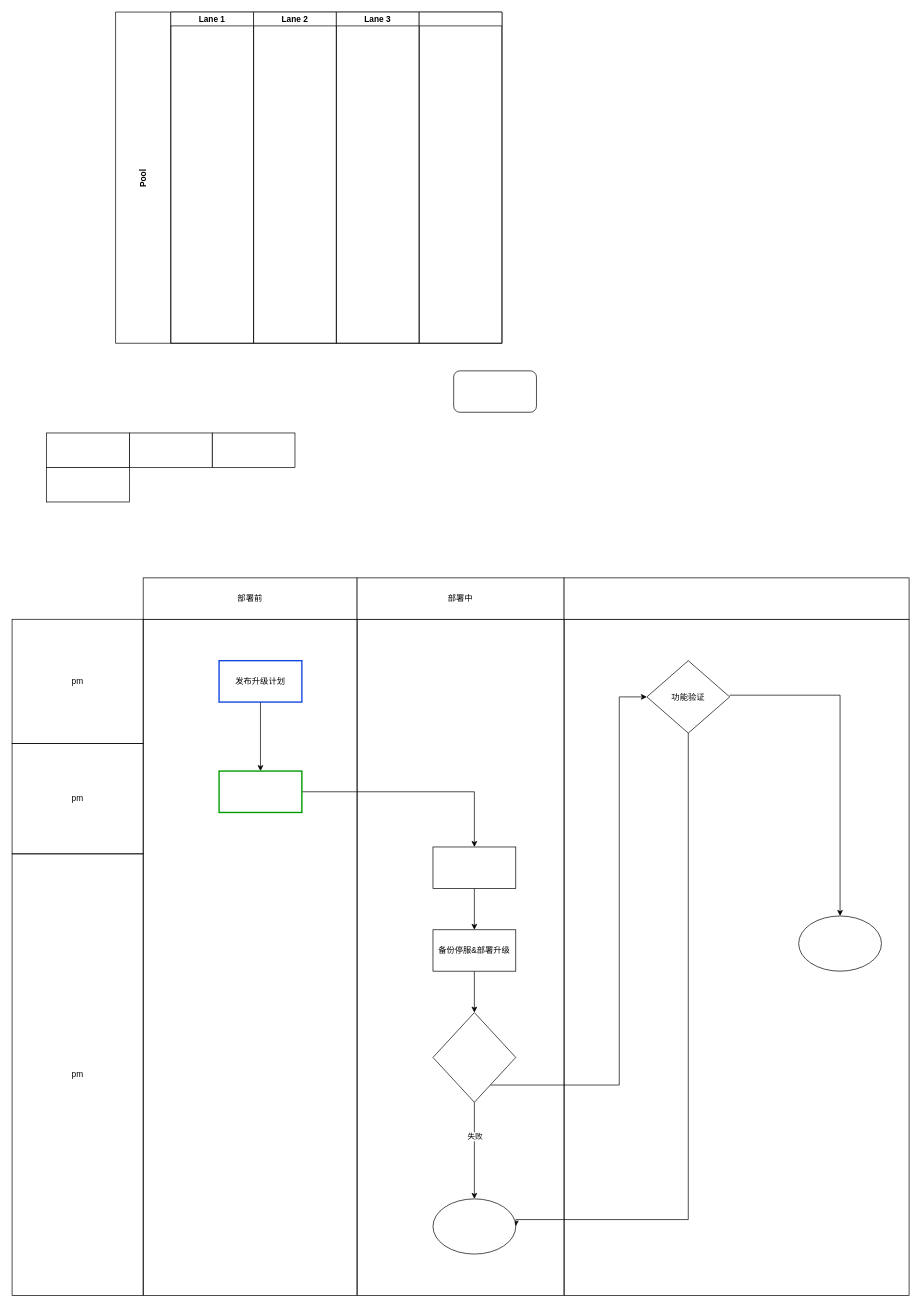
Image size: 921x1308. Some labels were removed from this diagram. The centre of each missing label's shape, as x and y in pixels:
"代码提交&部署清单" goes at point 260,791.
"前置检查与准备" goes at point 474,867.
"升级成功" goes at point 839,943.
"升级验证" goes at point 474,1057.
"回滚" goes at point 474,1226.
"部署完" goes at point 736,598.
